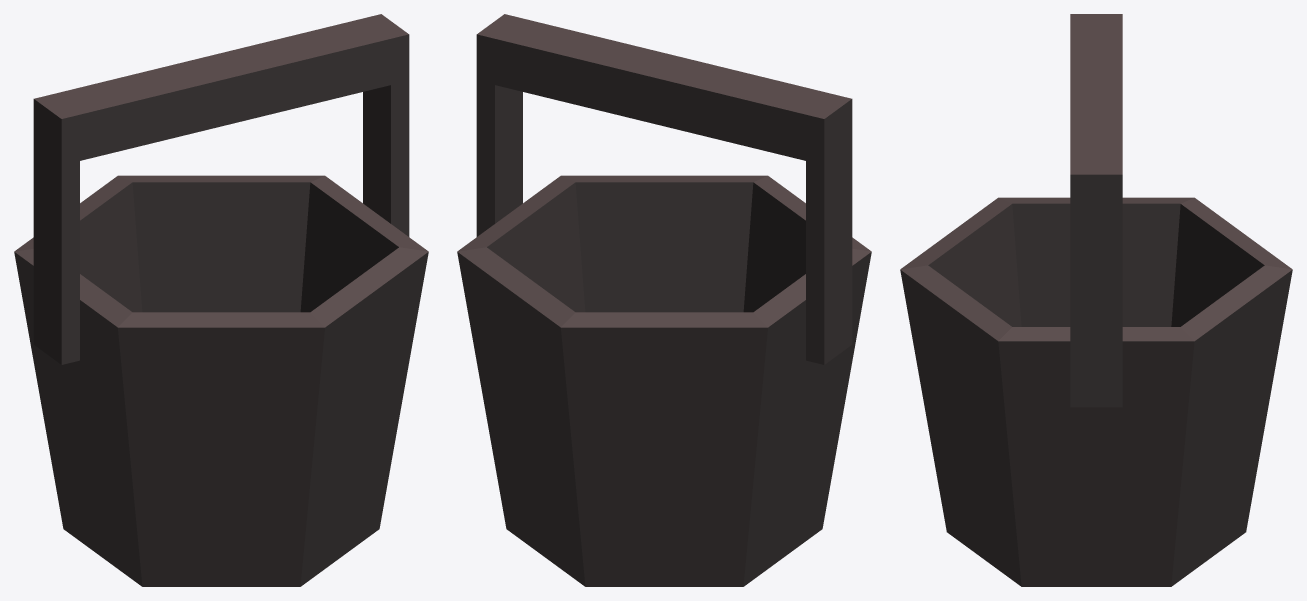
Rendered from TB_D_Prop_HBucket_C.FBX.
3 views of the same model, side by side, from view 1: azimuth 30°, elevation 25°; view 2: azimuth 150°, elevation 25°; view 3: azimuth 270°, elevation 25° (orthographic). The views are drawn at different scales.
Visible parts, largest first — view 1: TB_D_Prop_HBucket_C; view 2: TB_D_Prop_HBucket_C; view 3: TB_D_Prop_HBucket_C.
Boxes of the visible parts, box(x1,y1,x2,y2) form: TB_D_Prop_HBucket_C: box(14, 14, 428, 586); TB_D_Prop_HBucket_C: box(457, 14, 871, 586); TB_D_Prop_HBucket_C: box(900, 14, 1292, 586).
Bounding box in the file's own units: 0.5879 × 0.7477 × 0.6076.
